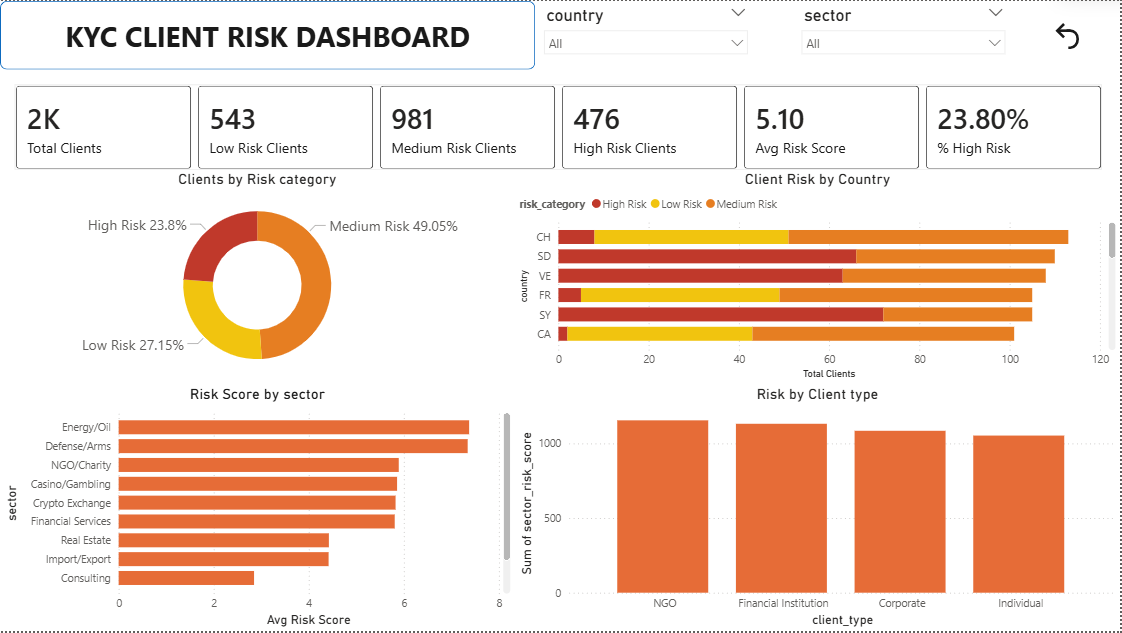

What the dashboard file says about the page in this screenshot:
{"tool":"powerbi","page":{"name":"Page 1","canvas":[1280,720],"ordinal":0},"visuals":[{"type":"cardVisual","fields":{"Data":["kyc.Total Clients","kyc.Low Risk Clients","kyc.Medium Risk Clients","kyc.High Risk Clients","kyc.Avg Risk Score","kyc.% High Risk"]},"box":[0,78.3,1280,131.7],"z":0},{"type":"donutChart","title":"Clients by Risk category","fields":{"Y":["CountNonNull(kyc.client_id)"],"Category":["kyc.risk_category"]},"box":[0,193.3,588.3,245],"z":1000},{"type":"barChart","title":"Client Risk by Country","fields":{"Category":["kyc.country"],"Y":["kyc.Total Clients"],"Series":["kyc.risk_category"]},"box":[588.3,193.3,691.7,245],"z":2000},{"type":"clusteredBarChart","title":"Risk Score by sector","fields":{"Category":["kyc.sector"],"Y":["kyc.Avg Risk Score"]},"box":[0,438.3,588.3,281.7],"z":2001},{"type":"clusteredColumnChart","title":"Risk by Client type","fields":{"Y":["Sum(kyc.sector_risk_score)"],"Category":["kyc.client_type"]},"box":[588.3,438.3,691.7,281.7],"z":2002},{"type":"shape","box":[0,0,611.7,78.3],"z":2003},{"type":"slicer","fields":{"Values":["kyc.country"]},"box":[611.7,0,253.3,93.3],"z":2004},{"type":"slicer","fields":{"Values":["kyc.sector"]},"box":[905,0,253.3,93.3],"z":2005},{"type":"actionButton","box":[1200,20,58.3,40],"z":2006}]}

Visuals, with their boxes in screenshot pixels (x1, y1, x2, y2), scaled from the page's 1280x720 canvas onto the 1122x633 screenshot:
cardVisual - kyc.Total Clients x kyc.Low Risk Clients: locate(0, 69, 1121, 185)
"Clients by Risk category" donutChart: locate(0, 170, 516, 385)
"Client Risk by Country" barChart: locate(516, 170, 1121, 385)
"Risk Score by sector" clusteredBarChart: locate(0, 385, 516, 632)
"Risk by Client type" clusteredColumnChart: locate(516, 385, 1121, 632)
shape: locate(0, 0, 536, 69)
slicer - kyc.country: locate(536, 0, 758, 82)
slicer - kyc.sector: locate(793, 0, 1015, 82)
actionButton: locate(1052, 18, 1103, 53)
